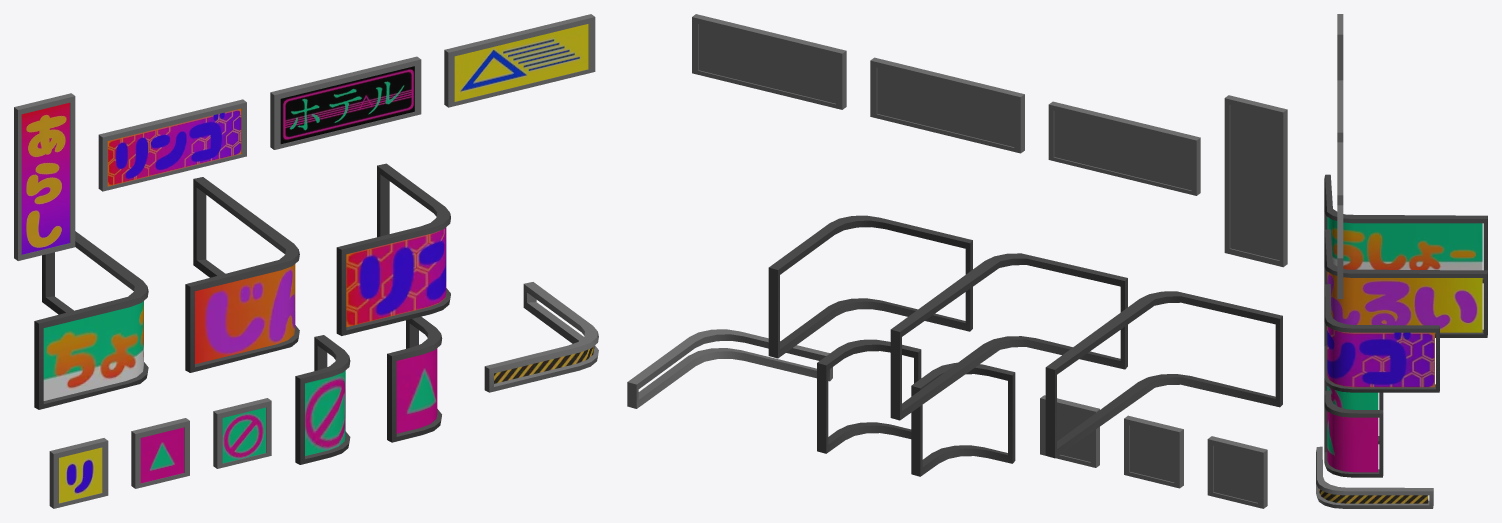
Rendered from pp-signs.glb.
The picture shows the model from 3 angles, left to right: view 1: azimuth 30°, elevation 25°; view 2: azimuth 150°, elevation 25°; view 3: azimuth 270°, elevation 25°; orthographic projection. The views are drawn at different scales.
Visible parts, largest first — view 1: Sign_Corner_2, Sign_Corner_3, Sign_Corner_1, Sign_4, Sign_2, Sign_1, Sign_3, Sign_Corner_Small2, Sign_Corner_Small1, Sign_Corner_Hazard, Sign_Small_3, Sign_Small_2 (+1 smaller); view 2: Sign_4, Sign_1, Sign_2, Sign_3, Sign_Corner_3, Sign_Corner_2, Sign_Corner_1, Sign_Corner_Hazard, Sign_Small_3, Sign_Small_2, Sign_Corner_Small2, Sign_Corner_Small1 (+1 smaller); view 3: Sign_Corner_2, Sign_Corner_3, Sign_Corner_1, Sign_Corner_Small1, Sign_Corner_Hazard, Sign_Corner_Small2, Sign_1, Sign_4, Sign_2, Sign_3.
Boxes of the visible parts, bbox=[...] form: Sign_Corner_2: bbox=[185, 177, 299, 372]; Sign_Corner_3: bbox=[34, 231, 148, 409]; Sign_Corner_1: bbox=[336, 163, 450, 335]; Sign_4: bbox=[14, 93, 75, 260]; Sign_2: bbox=[270, 56, 421, 149]; Sign_1: bbox=[444, 14, 595, 107]; Sign_3: bbox=[98, 99, 246, 191]; Sign_Corner_Small2: bbox=[295, 335, 350, 464]; Sign_Corner_Small1: bbox=[387, 316, 442, 442]; Sign_Corner_Hazard: bbox=[484, 282, 598, 392]; Sign_Small_3: bbox=[49, 438, 108, 508]; Sign_Small_2: bbox=[131, 418, 189, 488]; Sign_4: bbox=[1224, 95, 1287, 267]; Sign_1: bbox=[692, 14, 846, 109]; Sign_2: bbox=[870, 57, 1024, 153]; Sign_3: bbox=[1048, 101, 1200, 195]; Sign_Corner_3: bbox=[1045, 291, 1282, 458]; Sign_Corner_2: bbox=[890, 253, 1127, 420]; Sign_Corner_1: bbox=[768, 215, 972, 358]; Sign_Corner_Hazard: bbox=[627, 329, 832, 408]; Sign_Small_3: bbox=[1207, 436, 1267, 508]; Sign_Small_2: bbox=[1124, 415, 1183, 488]; Sign_Corner_Small2: bbox=[911, 362, 1015, 476]; Sign_Corner_Small1: bbox=[817, 339, 921, 453]; Sign_Corner_2: bbox=[1324, 229, 1487, 337]; Sign_Corner_3: bbox=[1324, 174, 1487, 283]; Sign_Corner_1: bbox=[1324, 284, 1439, 392]; Sign_Corner_Small1: bbox=[1324, 390, 1383, 477]; Sign_Corner_Hazard: bbox=[1316, 446, 1433, 508]; Sign_Corner_Small2: bbox=[1324, 378, 1383, 444]; Sign_1: bbox=[1337, 205, 1343, 298]; Sign_4: bbox=[1337, 14, 1343, 80]; Sign_2: bbox=[1337, 142, 1343, 205]; Sign_3: bbox=[1337, 80, 1343, 142].
Size of the model in its own units: 1.59 by 1.09 by 0.5485.
Materials: 3 (1 with a texture image).
